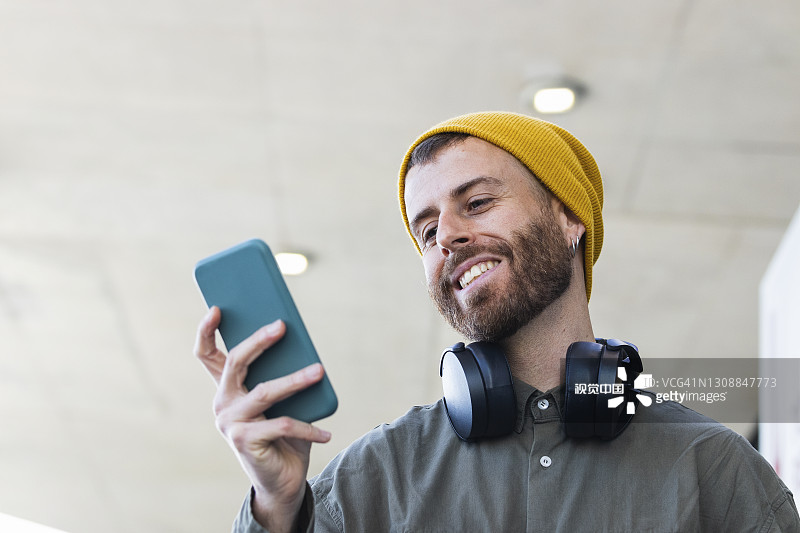reading: (162, 250, 376, 519)
